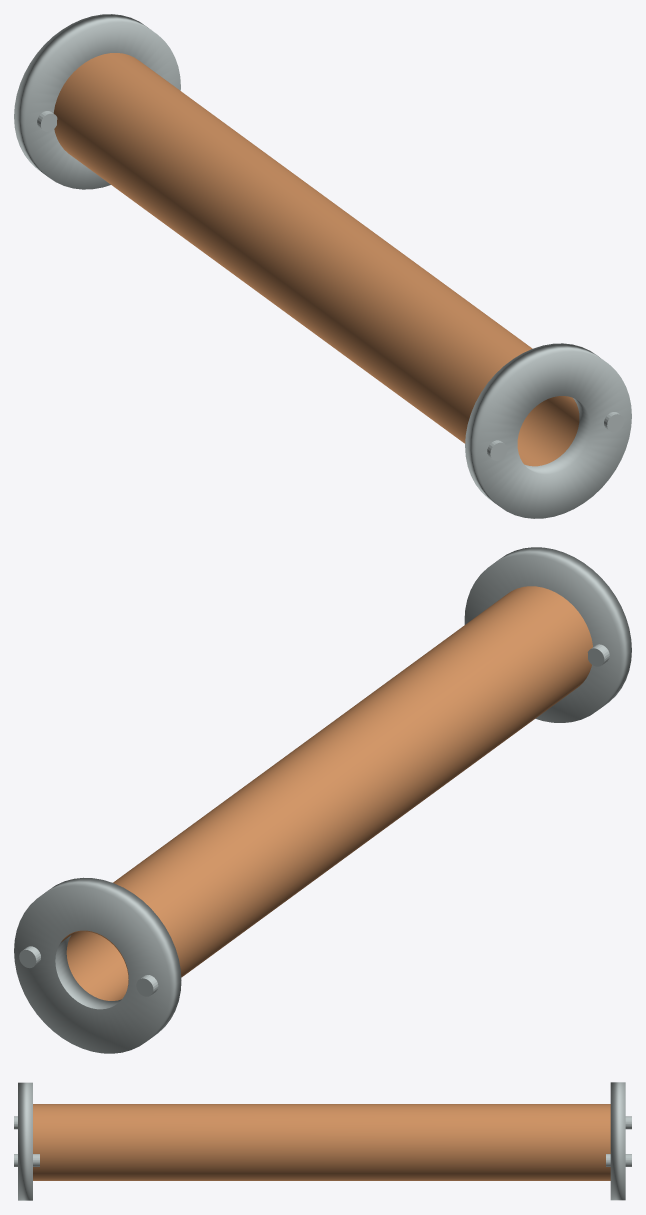
File: generation-ship-hydroponics-generation-ship-hydroponic-be49d29c__31490.glb
3 views of the same model, one above another, from view 1: azimuth 30°, elevation 25°; view 2: azimuth 150°, elevation 25°; view 3: azimuth 270°, elevation 25° (orthographic). The views are drawn at different scales.
Parts seen in each view (by area): view 1: generation-ship-hydroponics-irrigation-pipe-straight; view 2: generation-ship-hydroponics-irrigation-pipe-straight; view 3: generation-ship-hydroponics-irrigation-pipe-straight.
Part boxes in pixels (<box>): generation-ship-hydroponics-irrigation-pipe-straight: <box>14,14,631,518</box>; generation-ship-hydroponics-irrigation-pipe-straight: <box>14,547,631,1053</box>; generation-ship-hydroponics-irrigation-pipe-straight: <box>14,1082,631,1200</box>.
Size of the model in its own units: 0.2012 by 0.2001 by 1.04.
